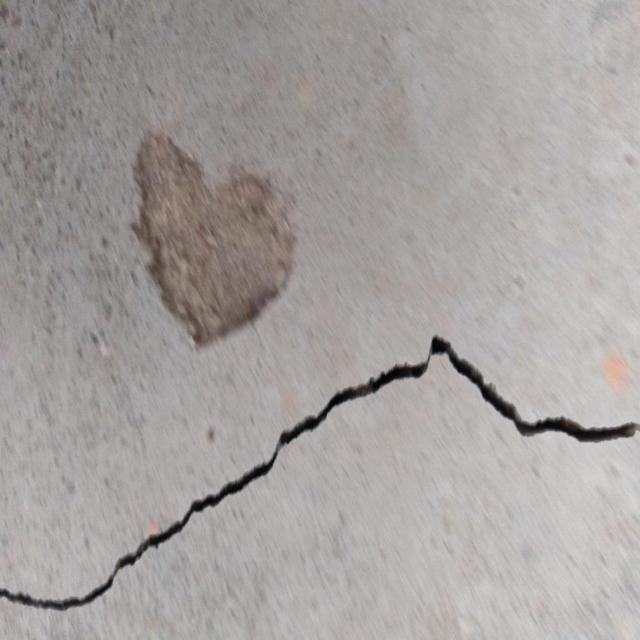concrete spalling: (127, 126, 295, 349)
diagonal crack: (0, 331, 639, 611)
